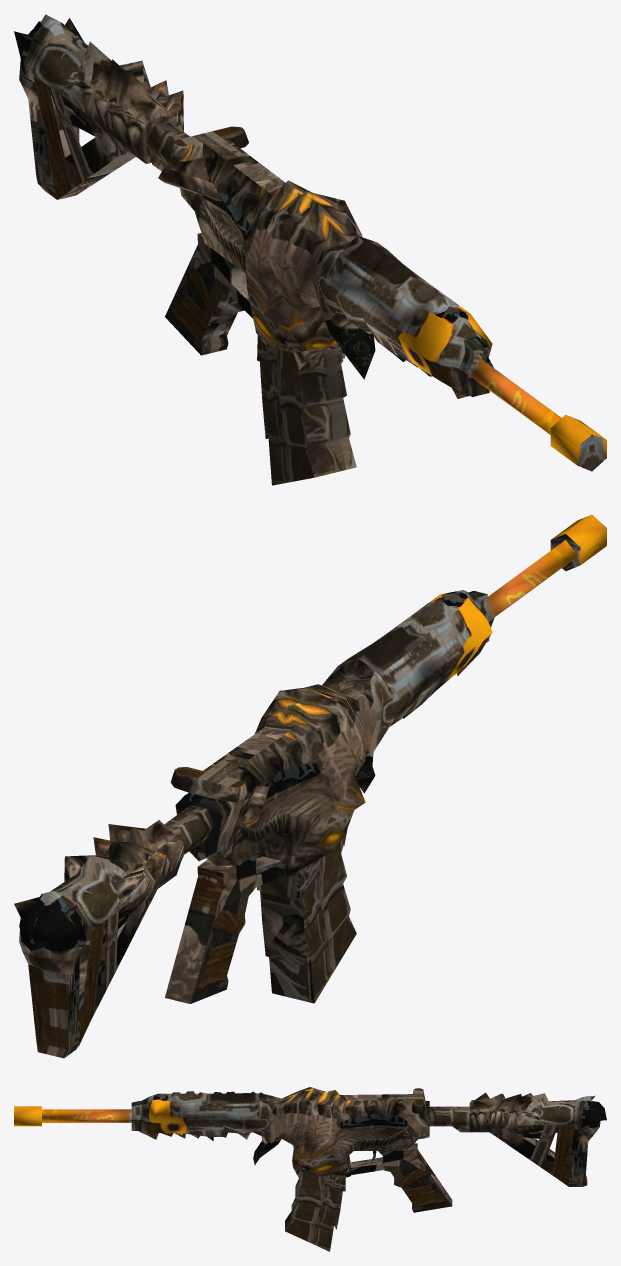
File: Assault_Rifle_bq_qs_04_haigu_lod01_SeaBone_Skin_Body_LOD_(000085).glb
3 views of the same model, one above another, from view 1: azimuth 30°, elevation 25°; view 2: azimuth 150°, elevation 25°; view 3: azimuth 270°, elevation 25° (orthographic). The views are drawn at different scales.
Visible parts, largest first — view 1: bq_qs_04_haigu_lod01; view 2: bq_qs_04_haigu_lod01; view 3: bq_qs_04_haigu_lod01.
Boxes of the visible parts, x1,y1,x2,y2 form: bq_qs_04_haigu_lod01: [14, 14, 606, 485]; bq_qs_04_haigu_lod01: [14, 514, 606, 1058]; bq_qs_04_haigu_lod01: [14, 1087, 606, 1251].
Bounding box in the file's own units: 0.1203 × 0.3341 × 1.13.
1 material, 1 textured.
